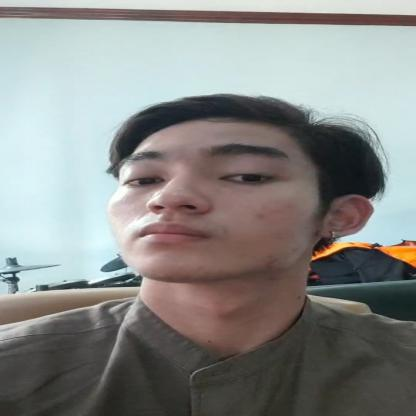Palm: (73, 90, 416, 330)
